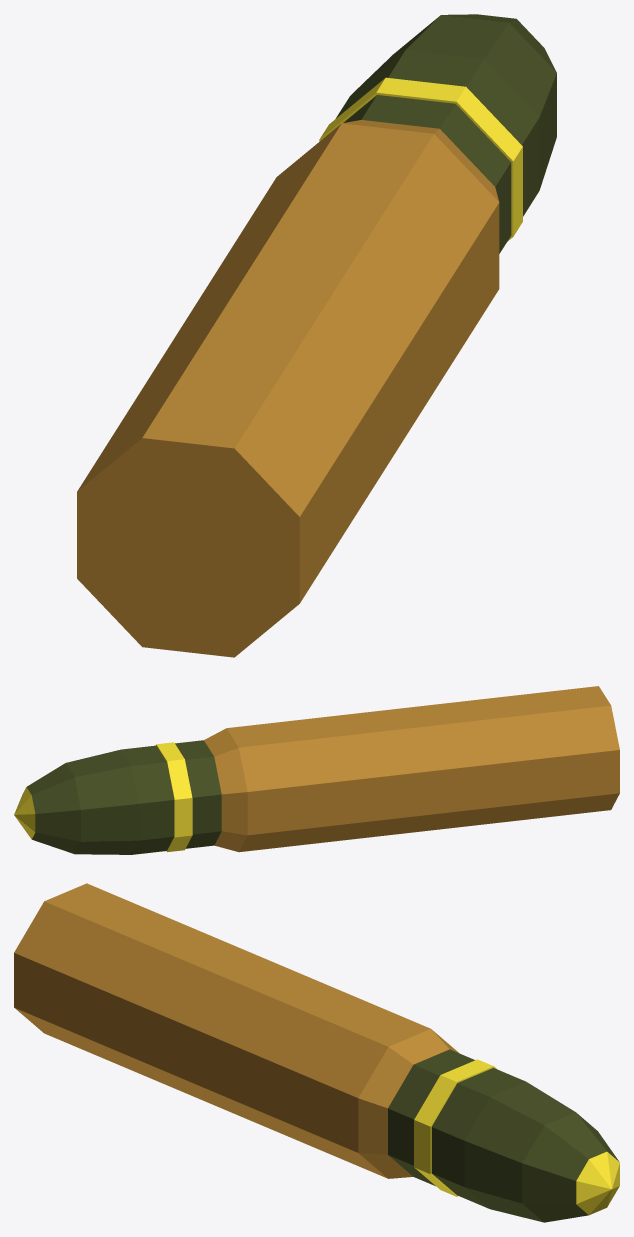
Rendered from ce_ammo_heavy_he_a.obj.
3 views of the same model, one above another, from view 1: azimuth 30°, elevation 25°; view 2: azimuth 150°, elevation 25°; view 3: azimuth 270°, elevation 25° (orthographic). The views are drawn at different scales.
Parts seen in each view (by area): view 1: ce_ammo_heavy_he_a_0, ce_ammo_heavy_he_a_5, ce_ammo_heavy_he_a_4, ce_ammo_heavy_he_a_2, ce_ammo_heavy_he_a_3, ce_ammo_heavy_he_a_1; view 2: ce_ammo_heavy_he_a_0, ce_ammo_heavy_he_a_5, ce_ammo_heavy_he_a_4, ce_ammo_heavy_he_a_6, ce_ammo_heavy_he_a_1, ce_ammo_heavy_he_a_2, ce_ammo_heavy_he_a_3, ce_ammo_heavy_he_a_7; view 3: ce_ammo_heavy_he_a_0, ce_ammo_heavy_he_a_5, ce_ammo_heavy_he_a_6, ce_ammo_heavy_he_a_1, ce_ammo_heavy_he_a_4, ce_ammo_heavy_he_a_2, ce_ammo_heavy_he_a_3, ce_ammo_heavy_he_a_7.
Part boxes in pixels (x1,y1,x2,y2): ce_ammo_heavy_he_a_0: (77, 123, 499, 657); ce_ammo_heavy_he_a_5: (352, 15, 556, 189); ce_ammo_heavy_he_a_4: (335, 50, 539, 216); ce_ammo_heavy_he_a_2: (343, 95, 511, 253); ce_ammo_heavy_he_a_3: (319, 77, 522, 240); ce_ammo_heavy_he_a_1: (343, 120, 498, 201); ce_ammo_heavy_he_a_0: (226, 686, 619, 852); ce_ammo_heavy_he_a_5: (66, 749, 138, 854); ce_ammo_heavy_he_a_4: (121, 745, 174, 854); ce_ammo_heavy_he_a_6: (27, 763, 80, 853); ce_ammo_heavy_he_a_1: (204, 728, 247, 851); ce_ammo_heavy_he_a_2: (175, 740, 221, 848); ce_ammo_heavy_he_a_3: (156, 742, 192, 852); ce_ammo_heavy_he_a_7: (14, 787, 35, 839); ce_ammo_heavy_he_a_0: (14, 883, 430, 1178); ce_ammo_heavy_he_a_5: (464, 1081, 575, 1222); ce_ammo_heavy_he_a_6: (522, 1112, 619, 1222); ce_ammo_heavy_he_a_1: (358, 1029, 459, 1178); ce_ammo_heavy_he_a_4: (431, 1068, 525, 1208); ce_ammo_heavy_he_a_2: (388, 1049, 474, 1186); ce_ammo_heavy_he_a_3: (414, 1059, 497, 1196); ce_ammo_heavy_he_a_7: (576, 1151, 619, 1215).
Bounding box in the file's own units: 0.7684 × 0.1848 × 0.7684.
